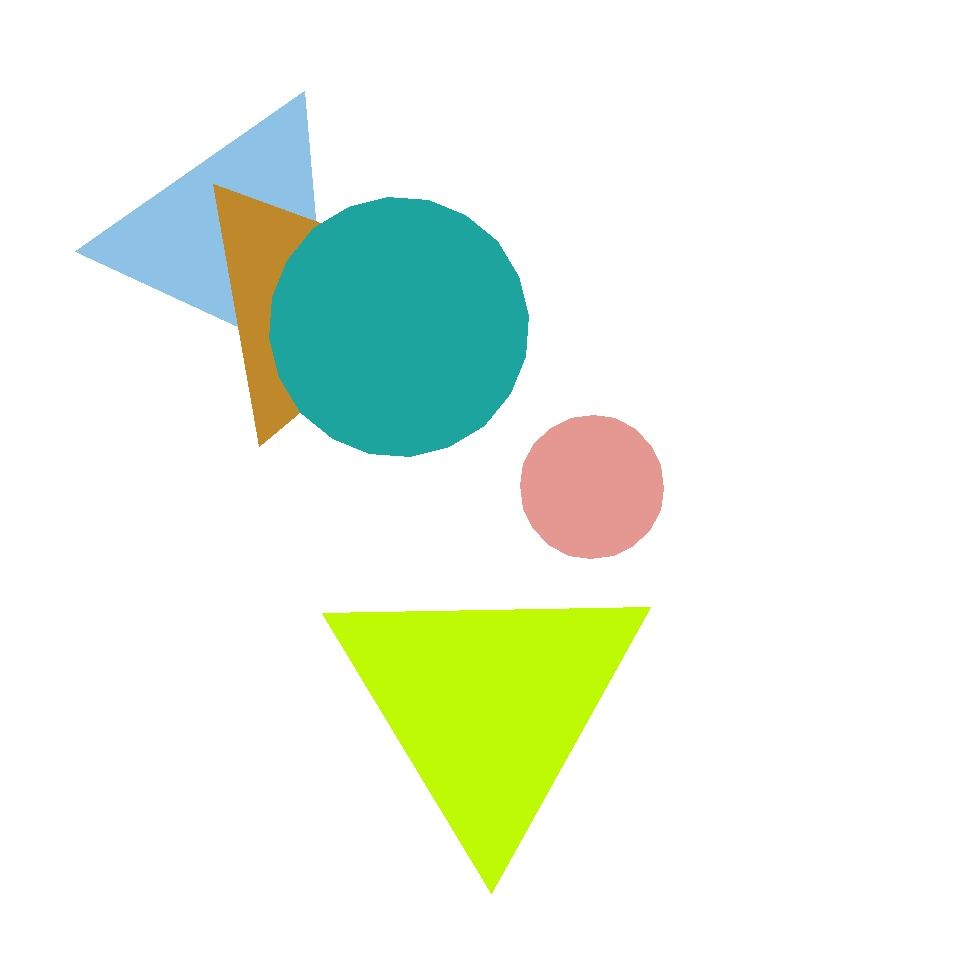circle: (324, 562, 652, 848), (109, 99, 362, 376), (187, 171, 437, 433)
triangle: (270, 198, 528, 456), (608, 248, 838, 478), (520, 416, 664, 558), (332, 580, 444, 692)
